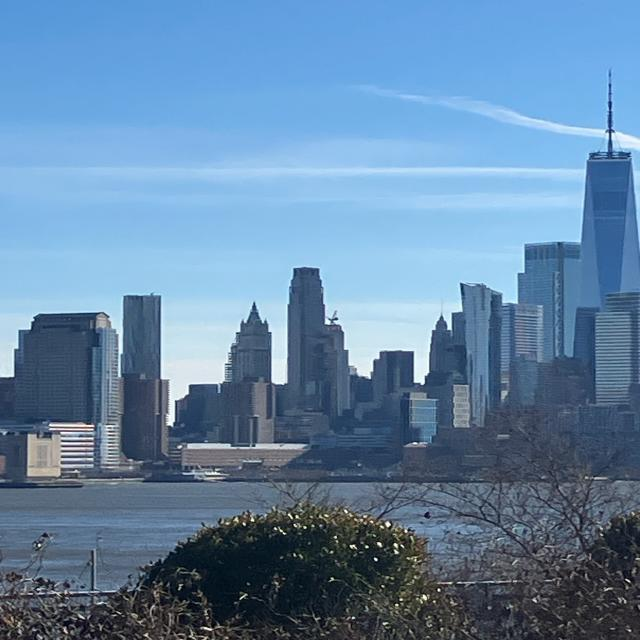WTC: (578, 68, 638, 314)
